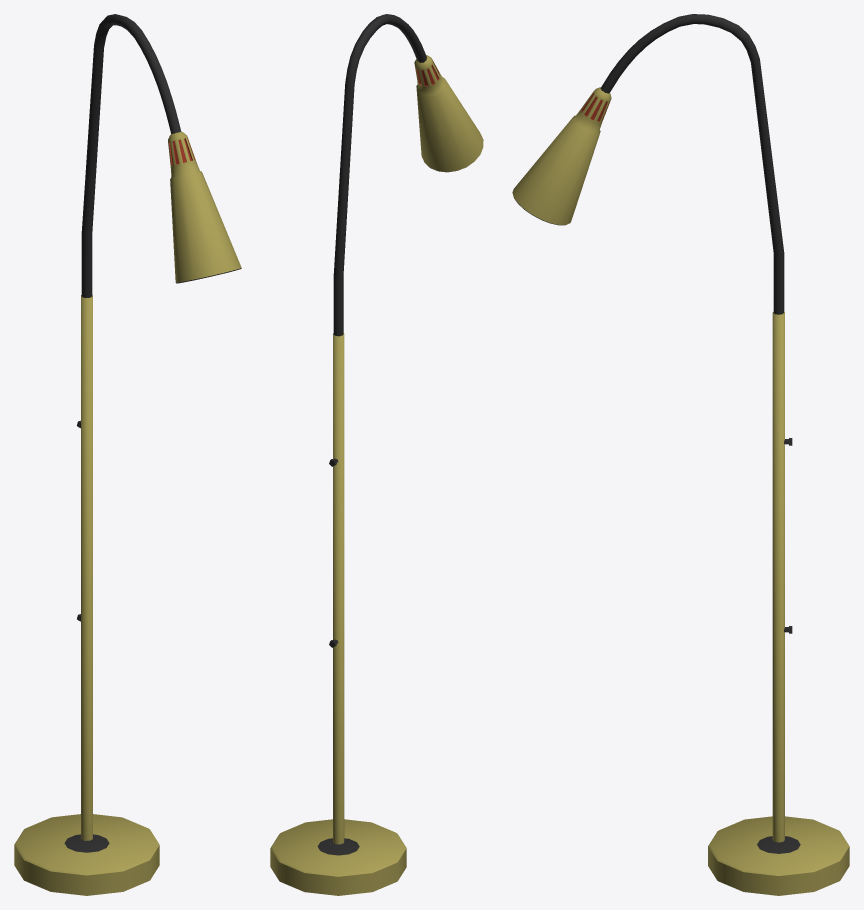
The model's file is KvartFloorLamp.FBX.
3 renders of one model, left to right at view 1: azimuth 30°, elevation 25°; view 2: azimuth 150°, elevation 25°; view 3: azimuth 270°, elevation 25°, orthographic. The views are drawn at different scales.
Parts seen in each view (by area): view 1: KvartFloorLamp; view 2: KvartFloorLamp; view 3: KvartFloorLamp.
Boxes of the visible parts, x1,y1,x2,y2 form: KvartFloorLamp: (14,14,241,895); KvartFloorLamp: (270,14,483,895); KvartFloorLamp: (512,14,849,895).
Size of the model in its own units: 457 by 3036 by 1089.
